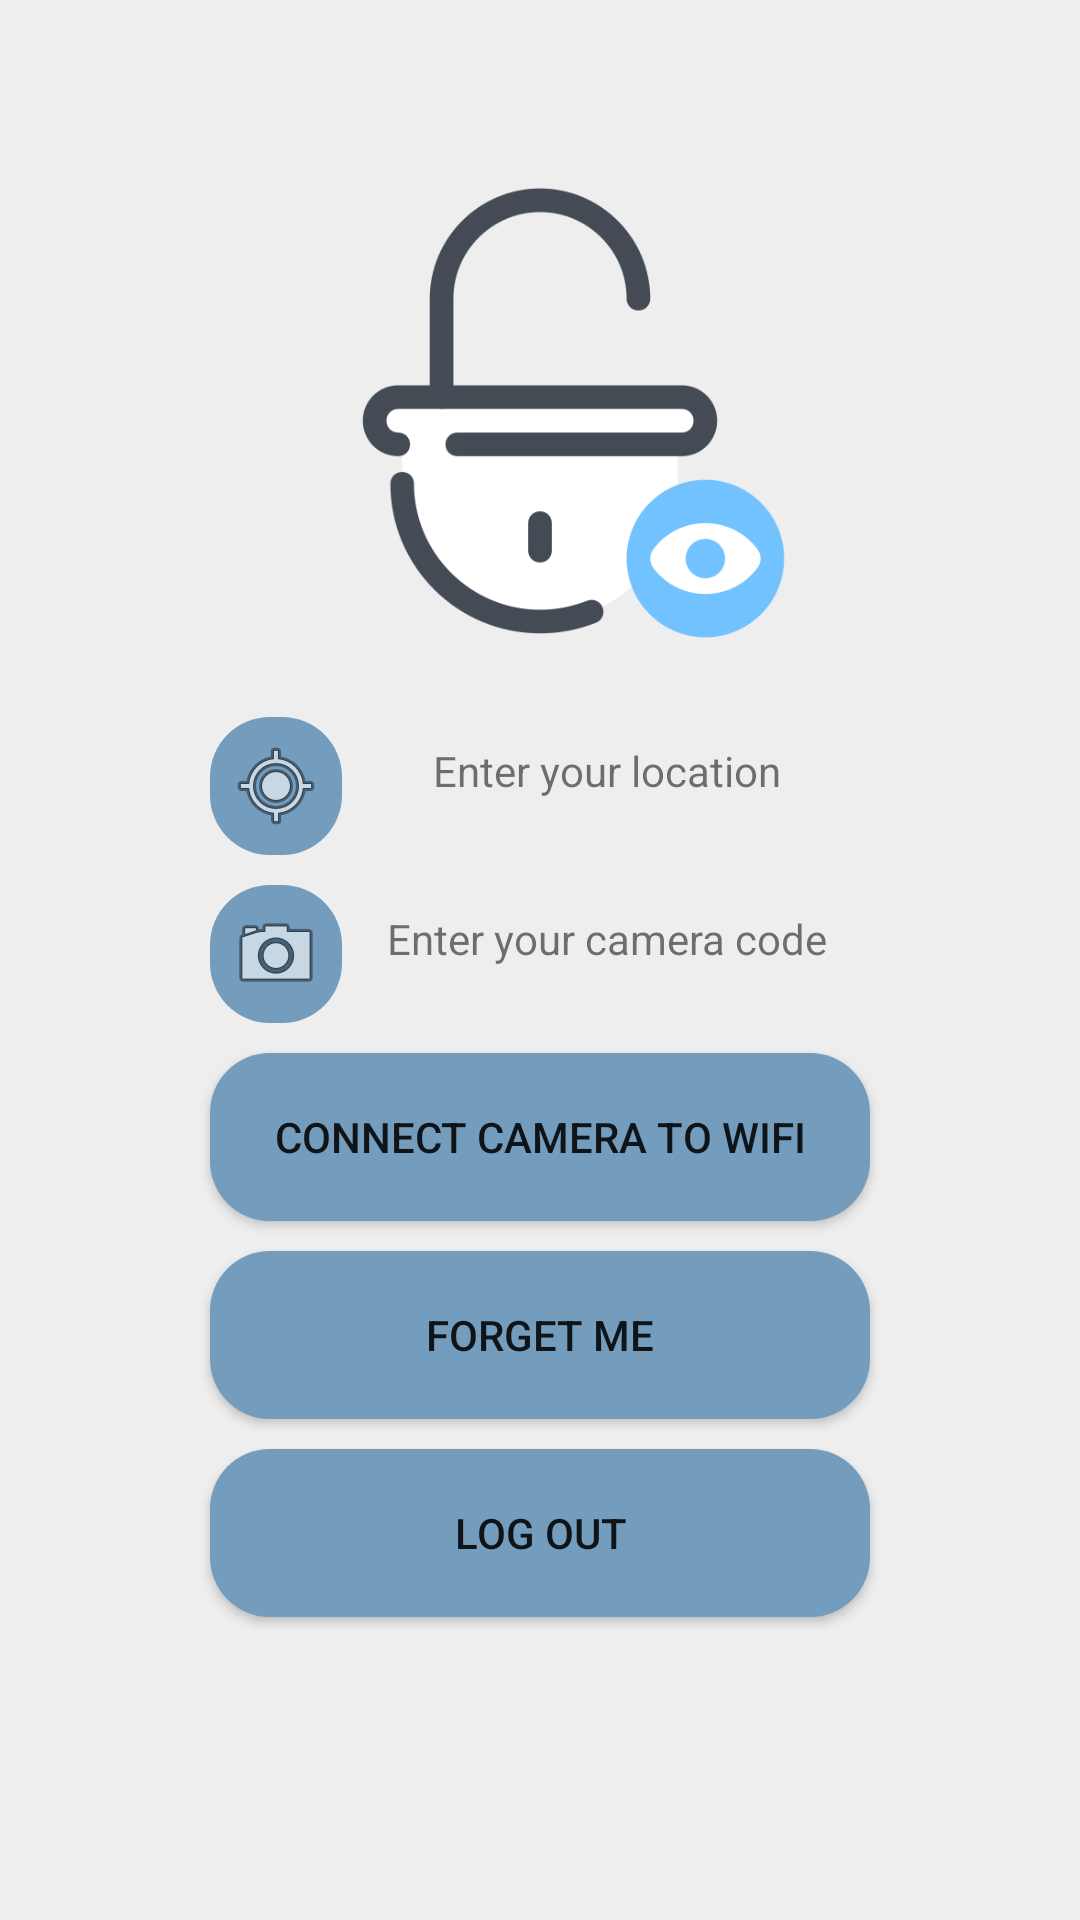

Where icons sit on this 1080×1920 app screen, as {"left": x1, "top": y1, "right": x2, "bottom": y2}:
mylocation: {"left": 210, "top": 717, "right": 342, "bottom": 855}
